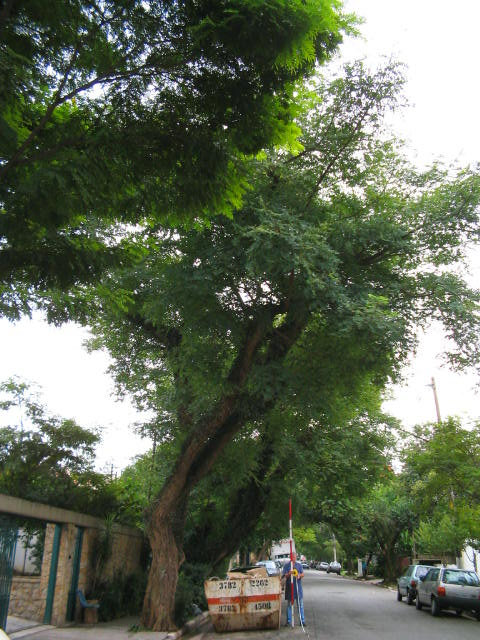crown: (87, 58, 476, 500)
stem: (130, 510, 194, 631)
stick: (283, 494, 299, 628)
tree: (84, 57, 477, 632)
